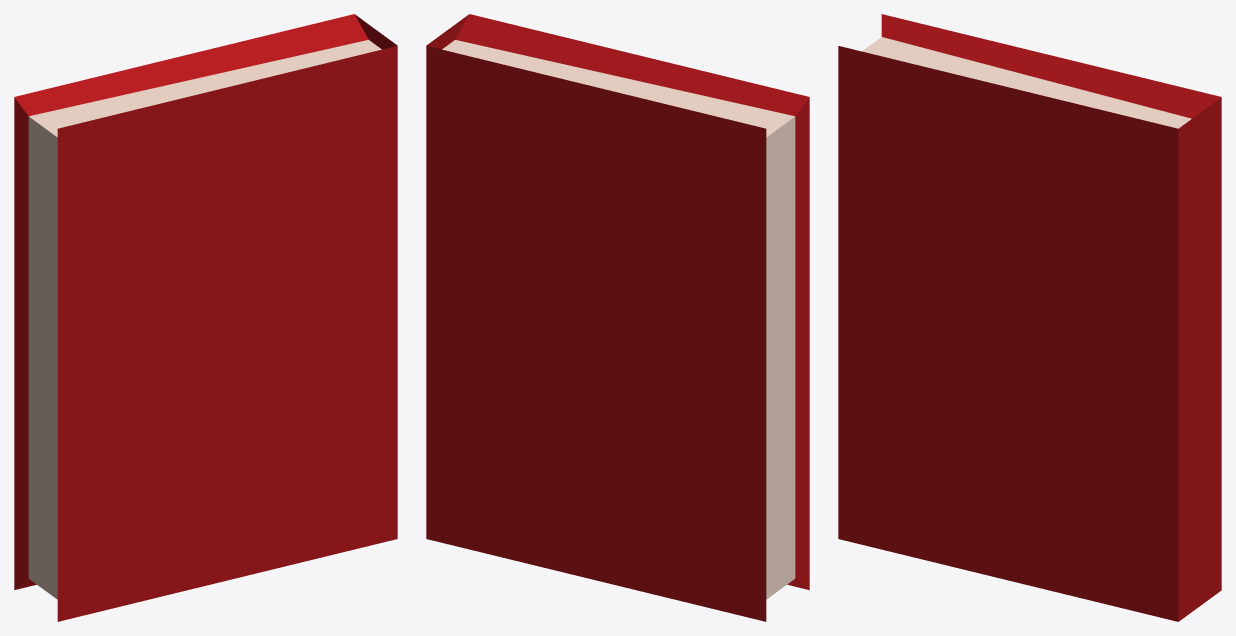
Rendered from book.obj.
3 views of the same model, side by side, from view 1: azimuth 30°, elevation 25°; view 2: azimuth 150°, elevation 25°; view 3: azimuth 330°, elevation 25° (orthographic).
Visible parts, largest first — view 1: pCube1; view 2: pCube1; view 3: pCube1.
Part boxes in pixels (x1=…): pCube1: x1=14, y1=14, x2=397, y2=621; pCube1: x1=426, y1=14, x2=809, y2=621; pCube1: x1=838, y1=14, x2=1221, y2=621.
Bounding box in the file's own units: 0.5308 × 0.7351 × 0.1171.
